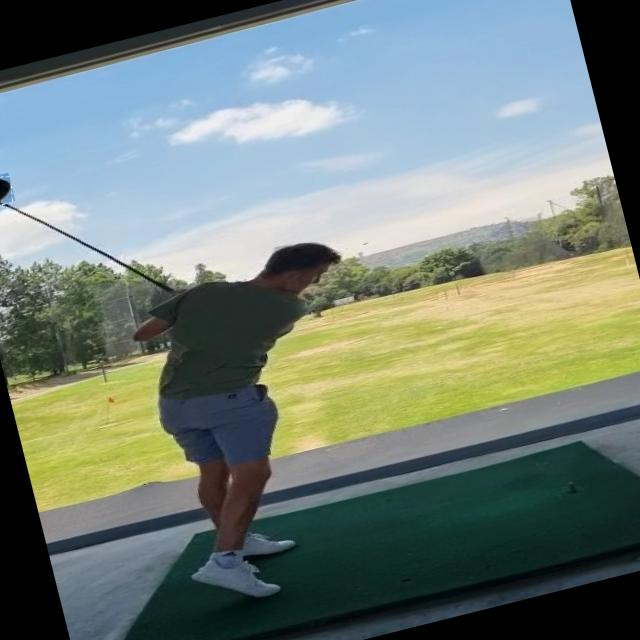club head: (0, 172, 15, 210)
